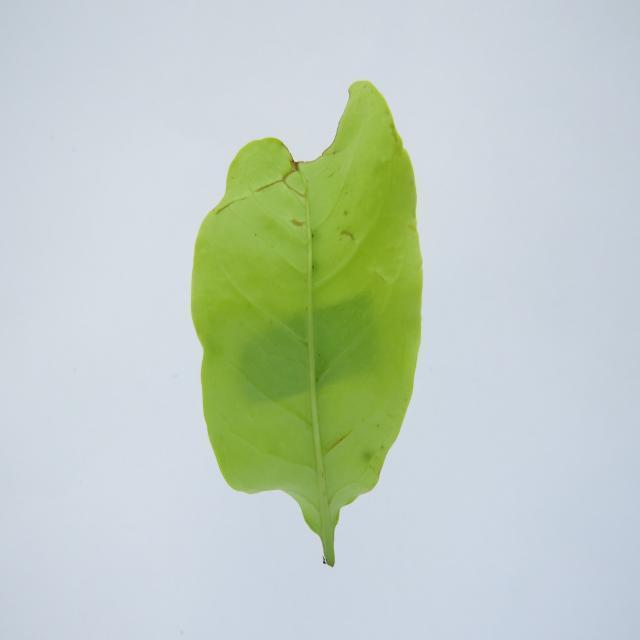DeficienciaNutricional-Boro: (191, 82, 422, 565)
